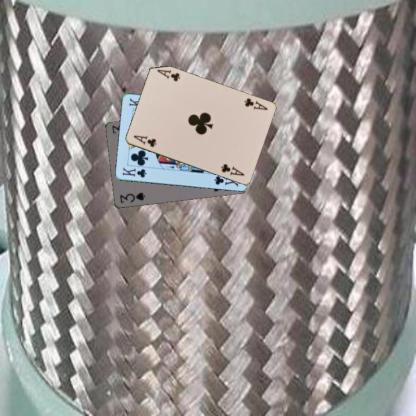3s: (117, 190, 147, 205)
Ac: (241, 96, 269, 112), (130, 133, 158, 148)
Kc: (120, 164, 147, 178)
